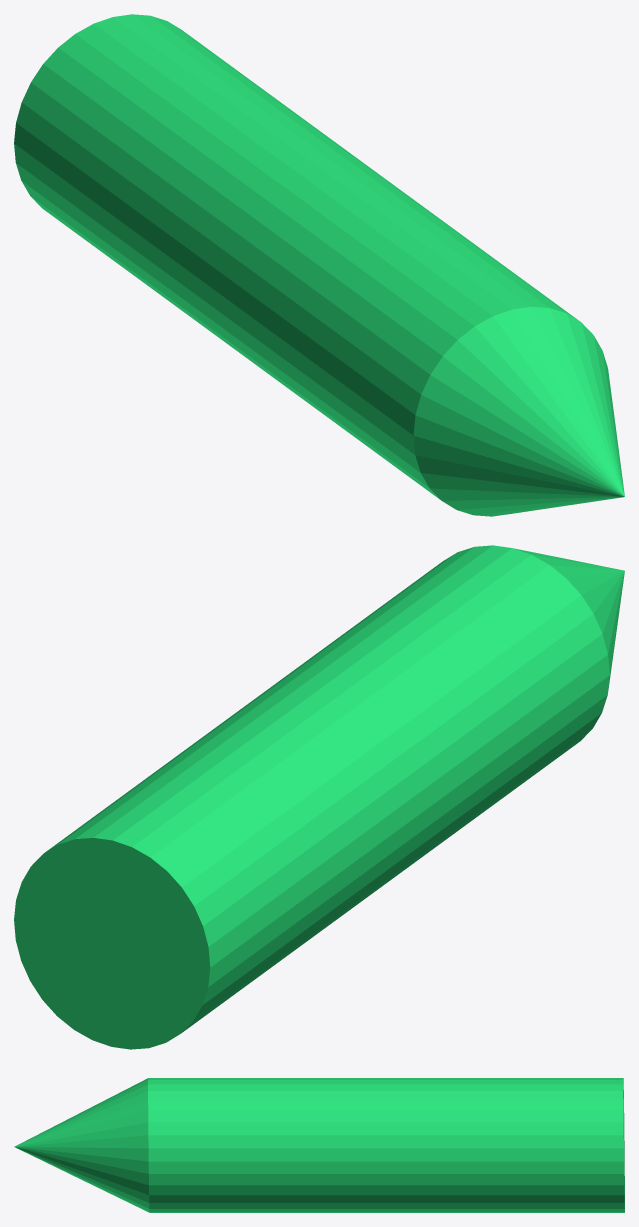
File: dart.fbx
3 views of the same model, one above another, from view 1: azimuth 30°, elevation 25°; view 2: azimuth 150°, elevation 25°; view 3: azimuth 270°, elevation 25° (orthographic). The views are drawn at different scales.
Parts seen in each view (by area): view 1: Cone; view 2: Cone; view 3: Cone.
Boxes of the visible parts, x1,y1,x2,y2 form: Cone: (14,14,624,516); Cone: (14,545,624,1049); Cone: (14,1078,624,1212).
Size of the model in its own units: 200 by 200 by 906.
